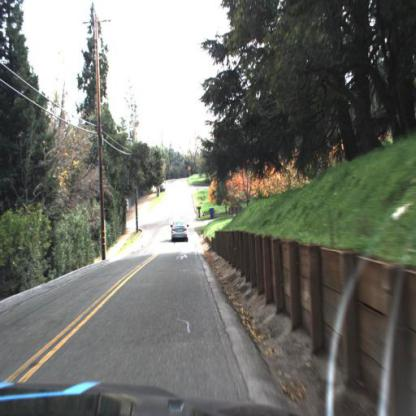car: (170, 220, 190, 250), (157, 176, 168, 193)
truck: (160, 180, 169, 198)
